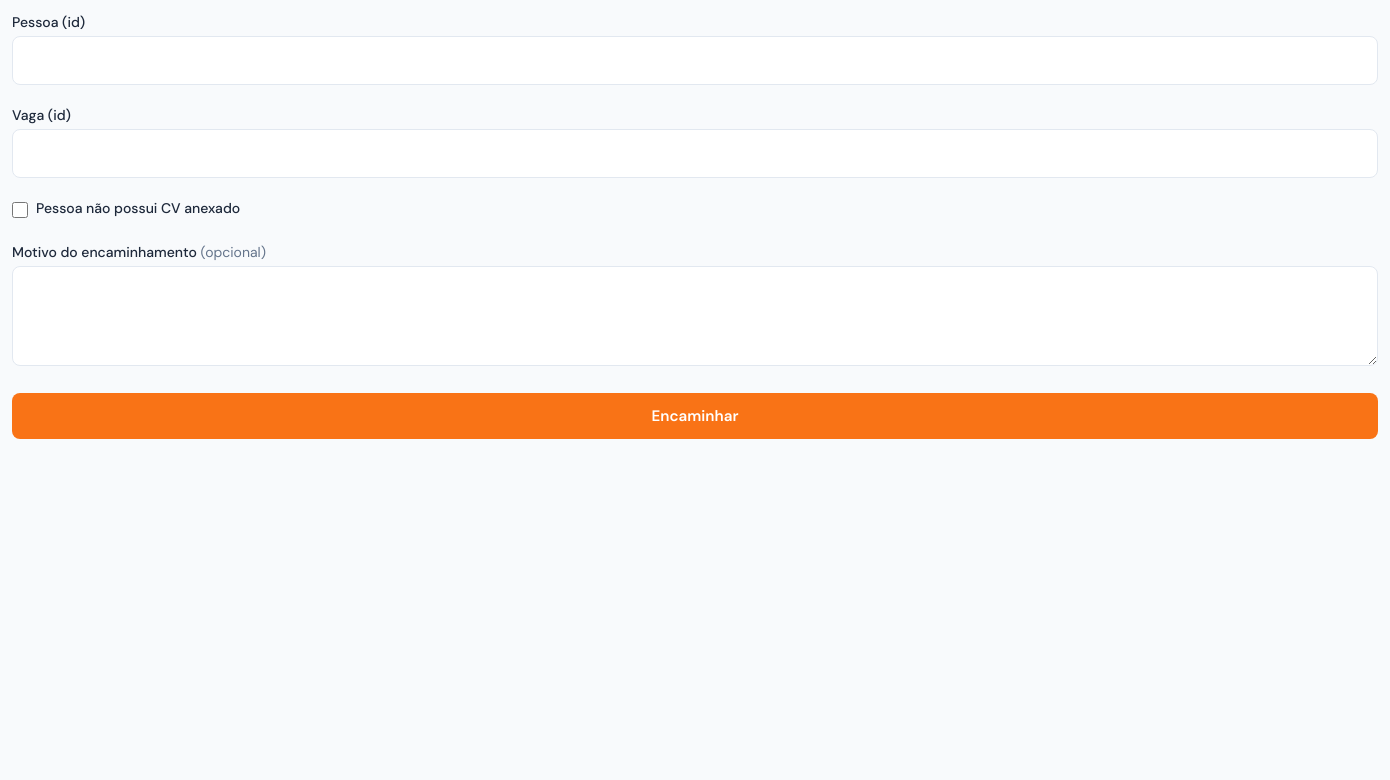
Test: USP-037 T8 — ReferralForm › REF-MN-03: marcar "Pessoa não possui CV anexado" exibe o campo resumo profissional
The image size is (1390, 780).
Expected: the field labelled "resumo profissional" is not shown
Click the checkbox labelled "Pessoa não possui CV anexado": {"x": 20, "y": 210} [12,202,28,218]
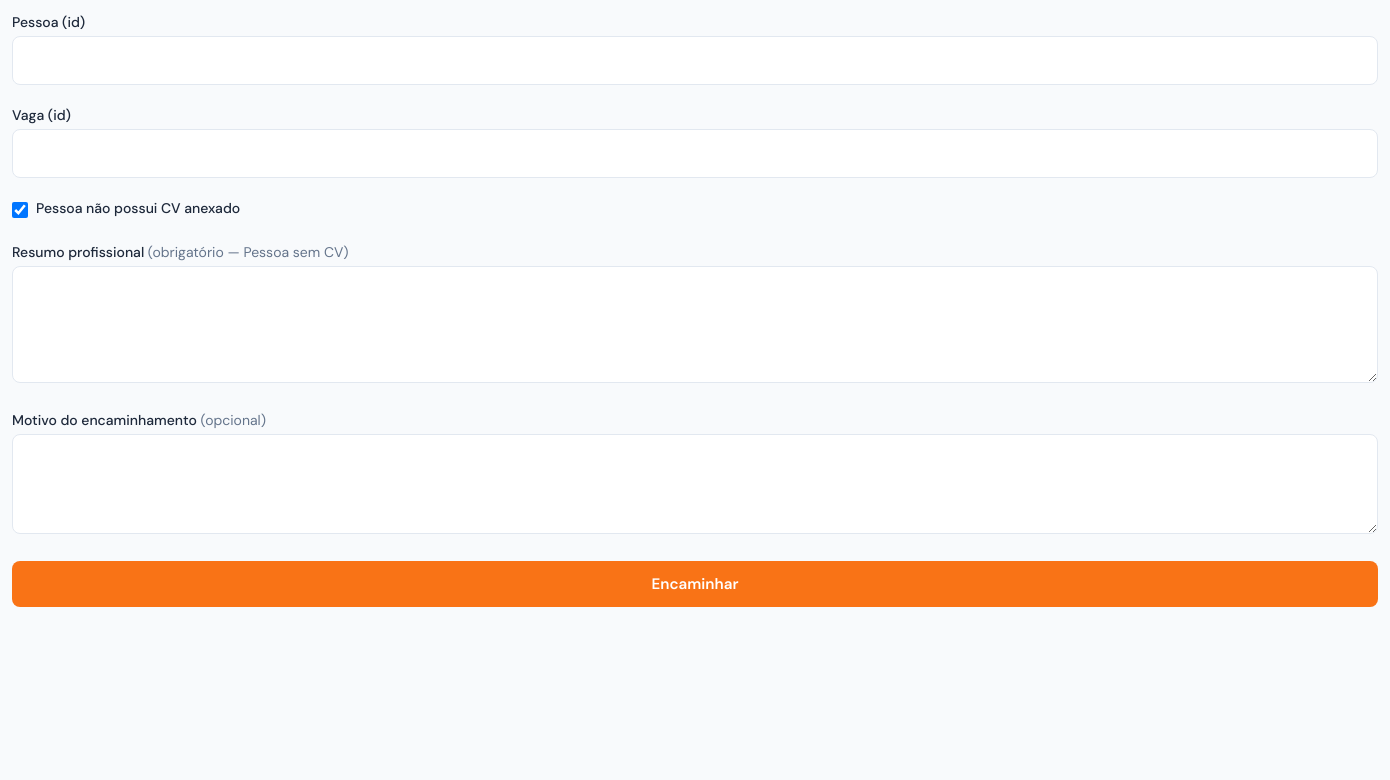
Result: the text box labelled "Resumo profissional (obrigatório — Pessoa sem CV)" is shown at [12,266,1378,383]
